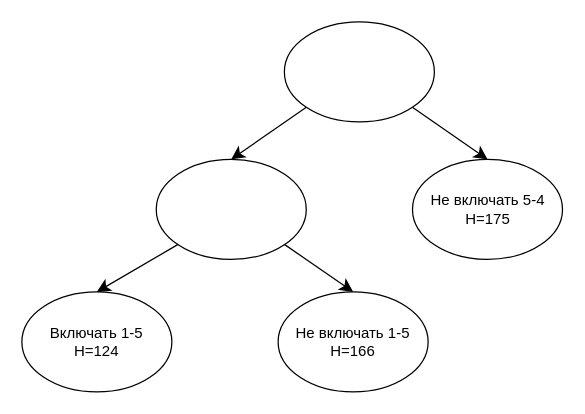
Some shapes in this 585 by 414 pixel diagram are drawn without their labels. Here are the shapes that lost their labels. From the top down, the centre of each, then its label:
At pixel 358 71: "Начало H=119".
At pixel 230 208: "Включать 5-4 H=119".
